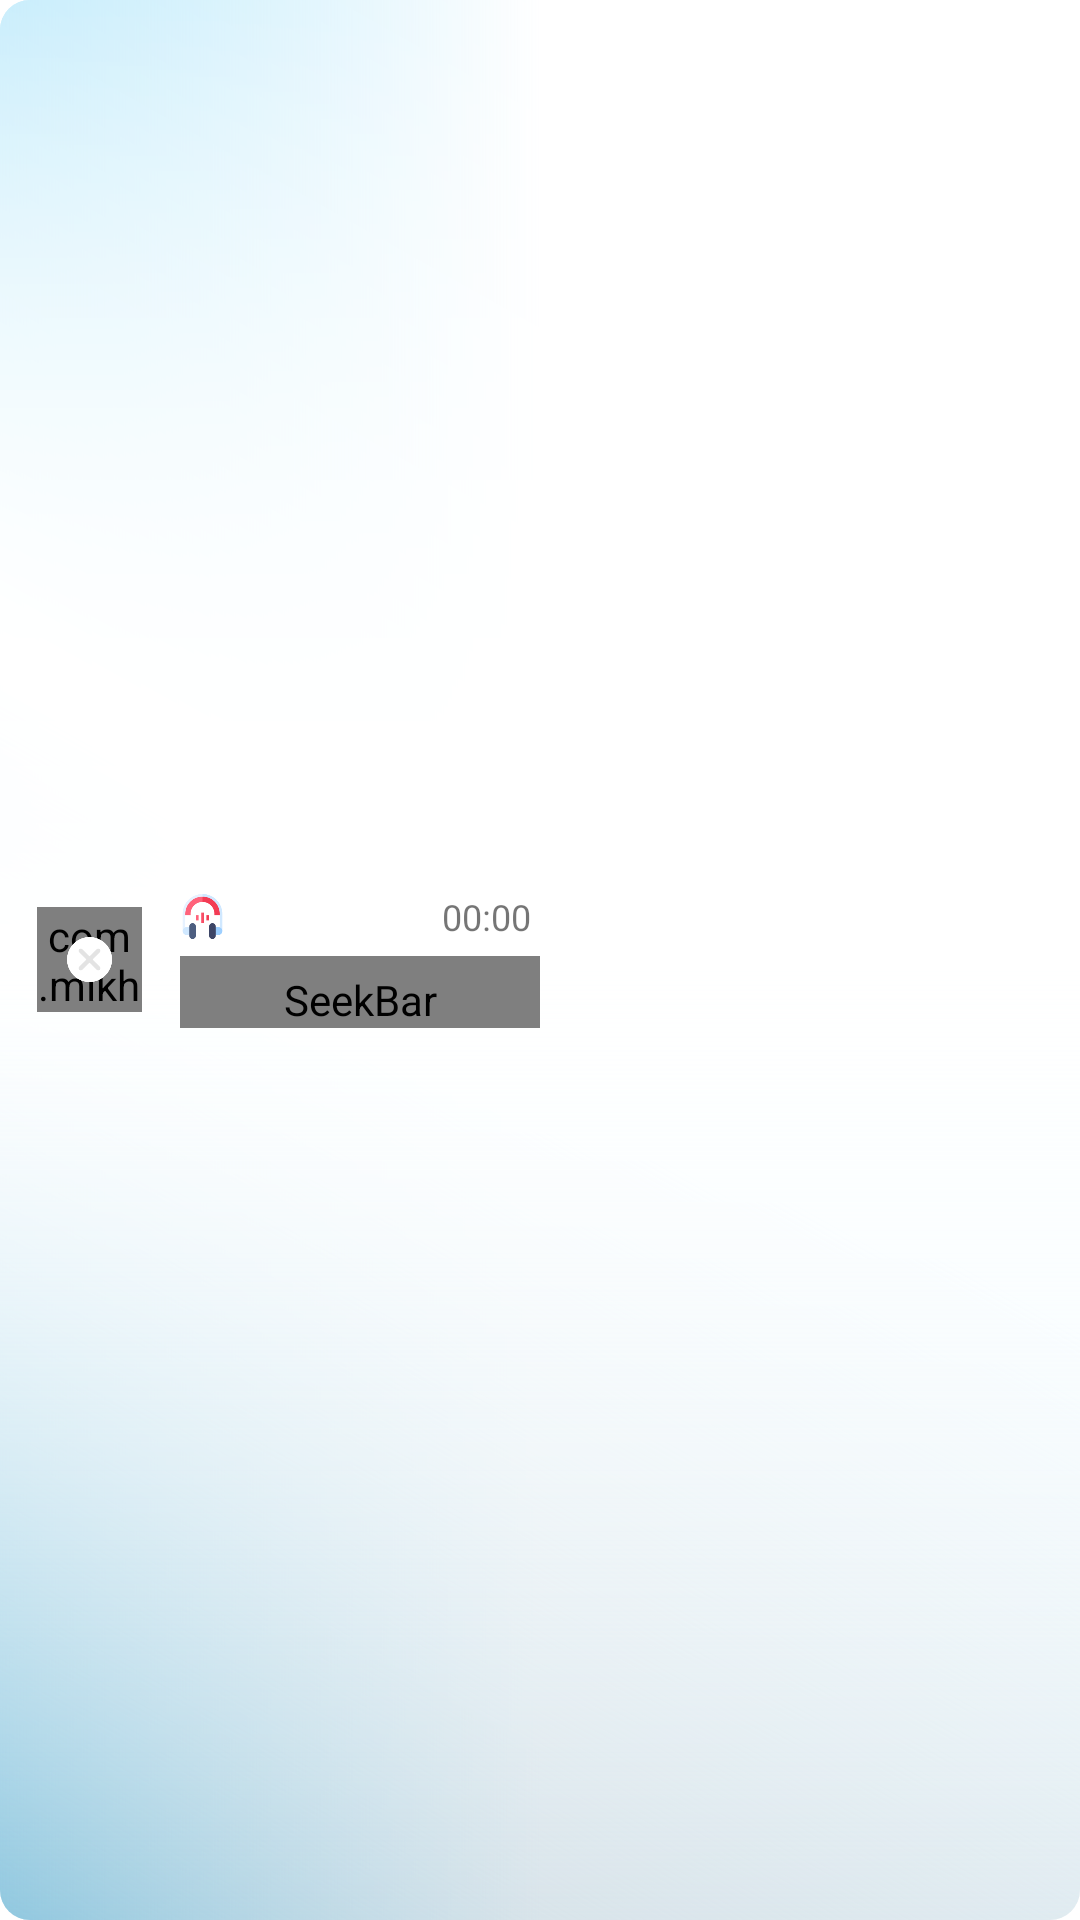

Named icons in this screenshot (1080*1920) and their centers, point (x, y):
cancel: point (89, 959)
option audio: point (203, 916)
